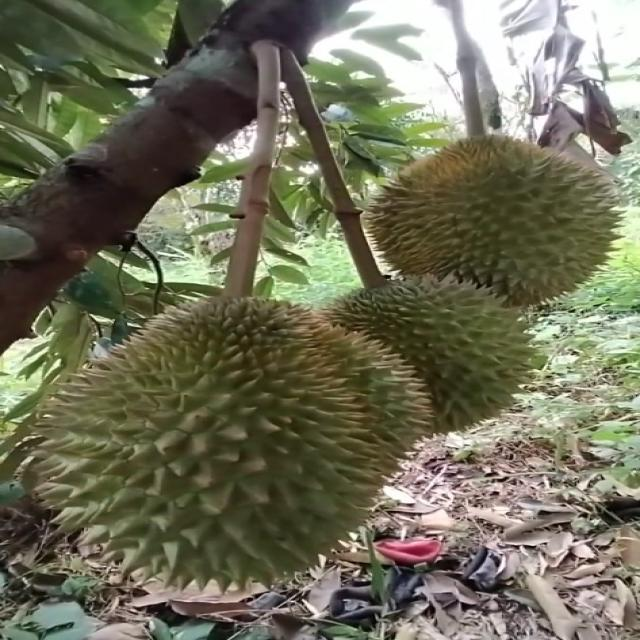immature: (30, 294, 432, 590), (355, 130, 630, 308), (325, 268, 549, 436)
